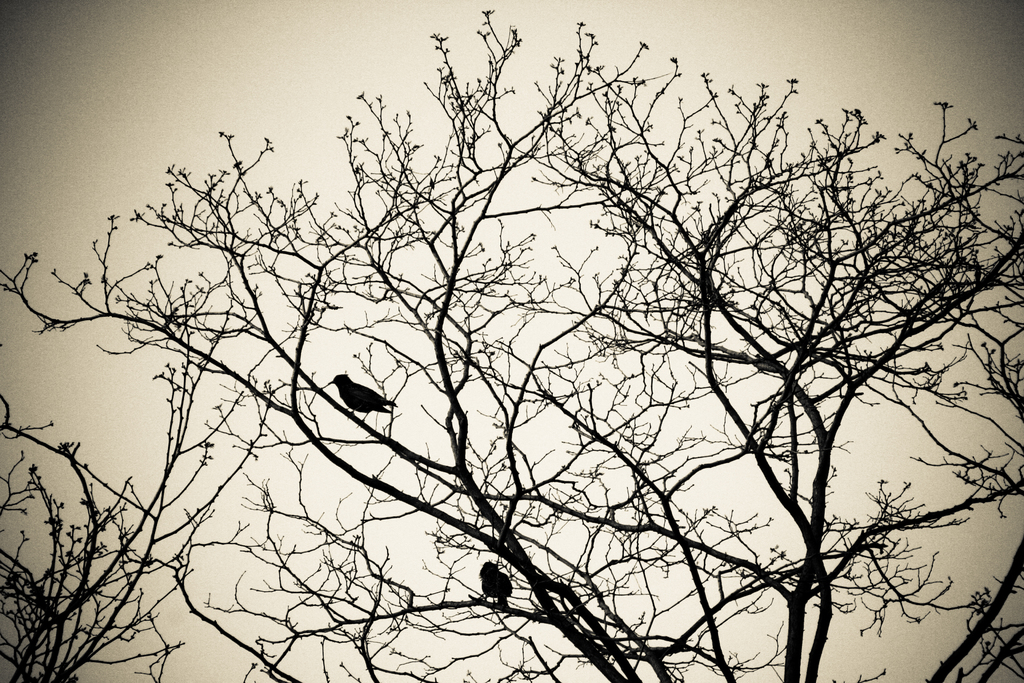Tree: (34, 33, 1008, 681)
